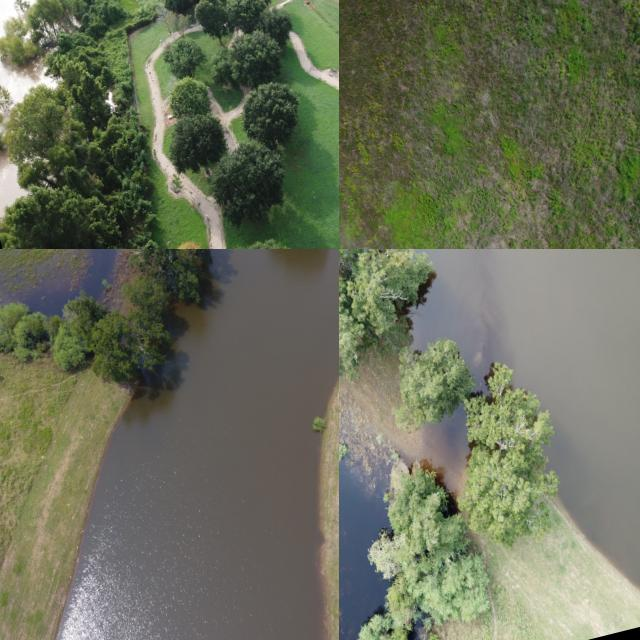fire: (411, 249, 640, 587), (0, 150, 23, 213)
